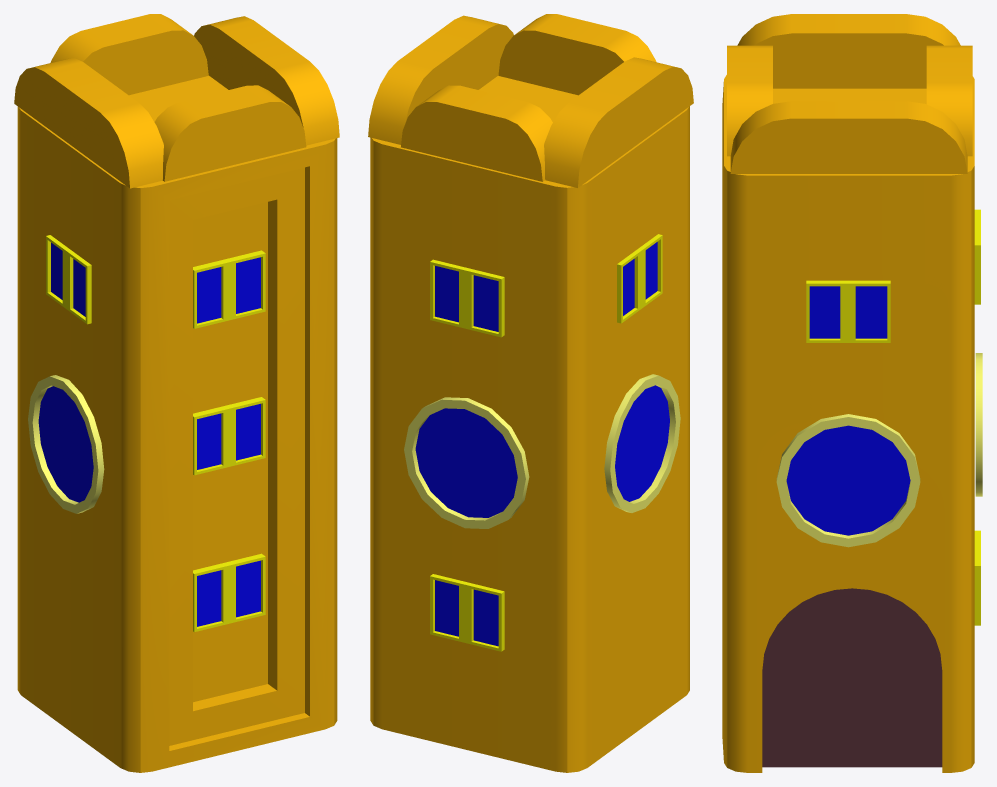
3 views of the same model, side by side, from view 1: azimuth 30°, elevation 25°; view 2: azimuth 150°, elevation 25°; view 3: azimuth 270°, elevation 25° (orthographic). The views are drawn at different scales.
Parts seen in each view (by area): view 1: polySurface128, pCube83, pCube137, pCube84, pCube82, pTorus9, pCube109, pCube110, pCube111, pCube134; view 2: polySurface128, pTorus8, pCube83, pCube82, pCube84, pCube137, pTorus9, pCube113, pCube114, pCube134; view 3: polySurface128, pCube84, pTorus7, pCube83, pCube112, pCube82, pCube137, pTorus8, pCube113, pCube114.
Boxes of the visible parts, x1=… form: polySurface128: x1=17, y1=75, x2=337, y2=772; pCube83: x1=14, y1=58, x2=163, y2=188; pCube137: x1=154, y1=85, x2=306, y2=181; pCube84: x1=194, y1=16, x2=339, y2=145; pCube82: x1=50, y1=14, x2=208, y2=95; pTorus9: x1=28, y1=375, x2=104, y2=513; pCube109: x1=193, y1=250, x2=265, y2=328; pCube110: x1=193, y1=397, x2=265, y2=475; pCube111: x1=193, y1=553, x2=265, y2=632; pCube134: x1=46, y1=235, x2=91, y2=324; polySurface128: x1=370, y1=75, x2=689, y2=772; pTorus8: x1=404, y1=397, x2=529, y2=528; pCube83: x1=544, y1=57, x2=693, y2=187; pCube82: x1=401, y1=85, x2=552, y2=181; pCube84: x1=368, y1=15, x2=513, y2=144; pCube137: x1=498, y1=14, x2=656, y2=95; pTorus9: x1=604, y1=374, x2=680, y2=512; pCube113: x1=430, y1=259, x2=504, y2=337; pCube114: x1=430, y1=574, x2=504, y2=651; pCube134: x1=617, y1=234, x2=662, y2=323; polySurface128: x1=722, y1=75, x2=974, y2=772; pCube84: x1=730, y1=101, x2=967, y2=173; pTorus7: x1=776, y1=414, x2=920, y2=547; pCube83: x1=737, y1=14, x2=960, y2=88; pCube112: x1=806, y1=280, x2=890, y2=342; pCube82: x1=926, y1=45, x2=972, y2=156; pCube137: x1=727, y1=45, x2=772, y2=156; pTorus8: x1=975, y1=353, x2=982, y2=496; pCube113: x1=974, y1=209, x2=980, y2=304; pCube114: x1=974, y1=530, x2=980, y2=625.
Size of the model in its own units: 17.72 by 47.12 by 17.02.
